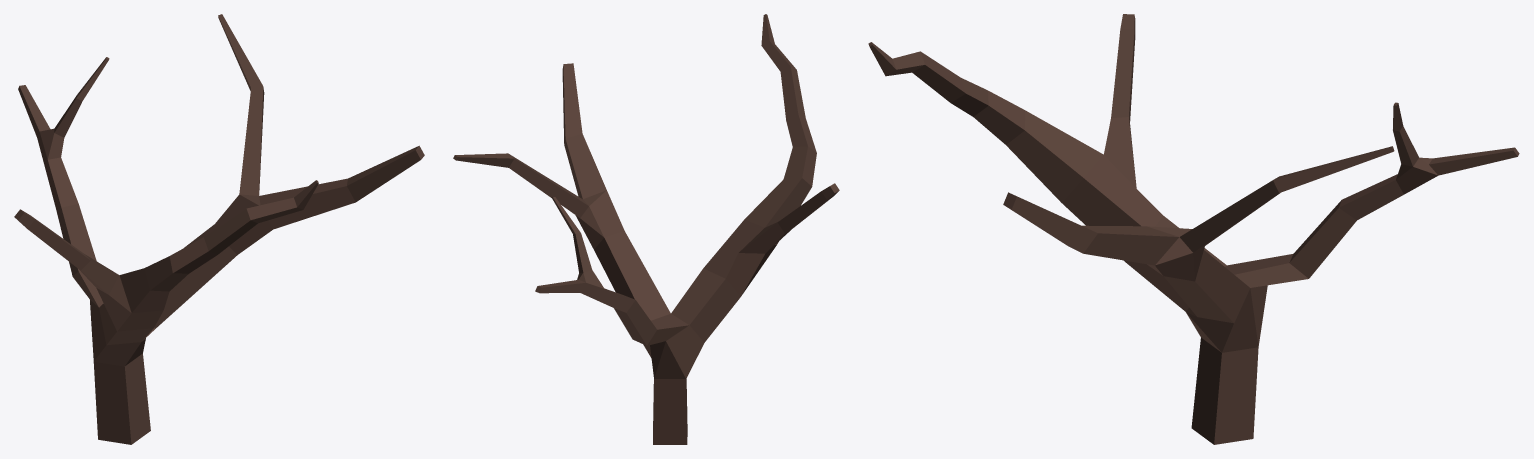
Rendered from Bush_Medium.fbx.
3 renders of one model, left to right at view 1: azimuth 30°, elevation 25°; view 2: azimuth 150°, elevation 25°; view 3: azimuth 270°, elevation 25°, orthographic. The views are drawn at different scales.
Visible parts, largest first — view 1: Cube.002; view 2: Cube.002; view 3: Cube.002.
Part boxes in pixels (x1=…): Cube.002: x1=14, y1=14, x2=424, y2=444; Cube.002: x1=453, y1=14, x2=839, y2=444; Cube.002: x1=868, y1=14, x2=1519, y2=444.
Size of the model in its own units: 57.59 by 54.56 by 77.1.
